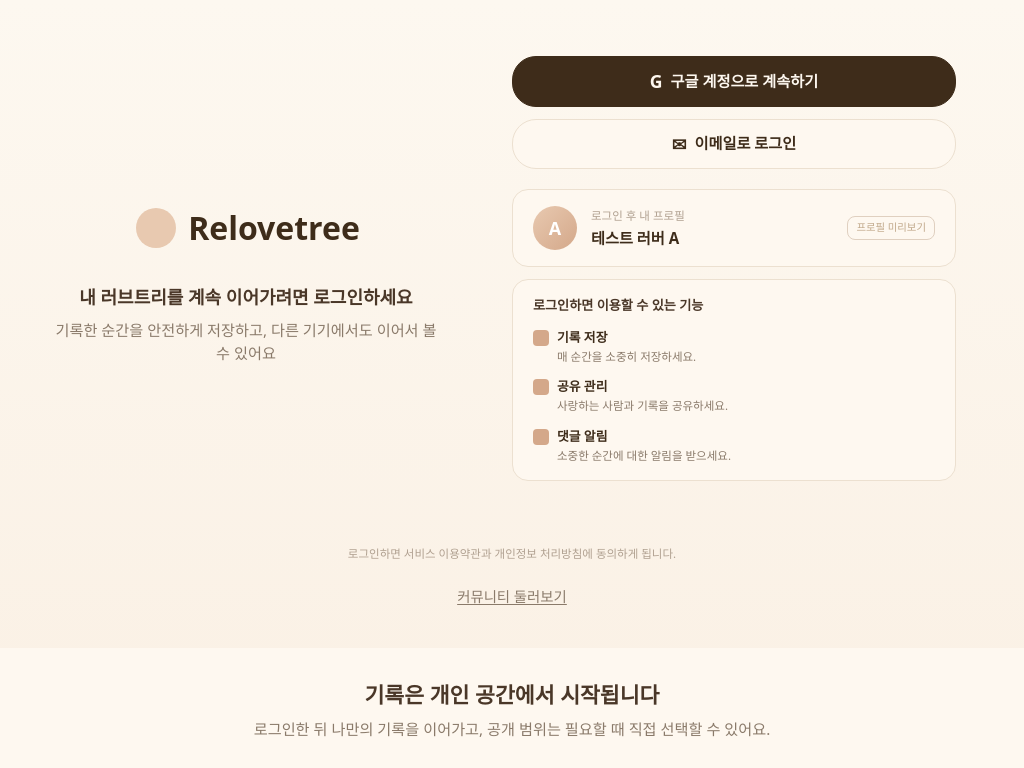
it: Auth login screen (LT3-AUTH-001) › maps email provider failure invalid-credential to one bounded status
Click the button "✉ 이메일로 로그인": x=734, y=144 [512,119,956,169]
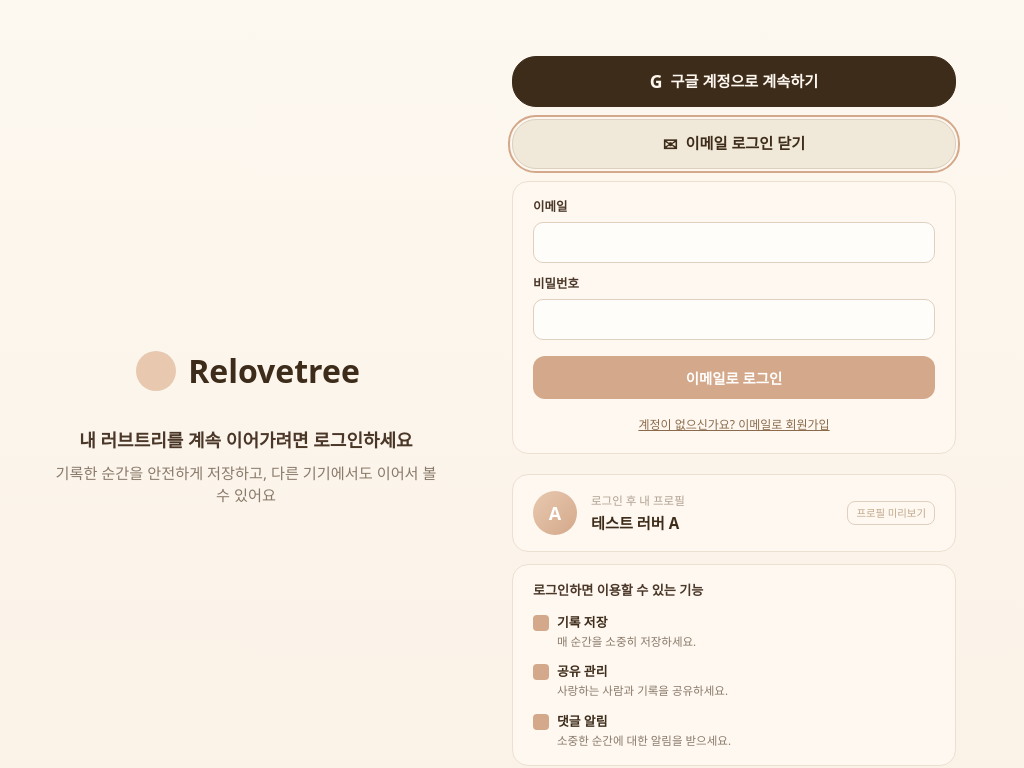
In the field labelled "이메일": x=734, y=242 [533,222,935,263], type "user@example.com"
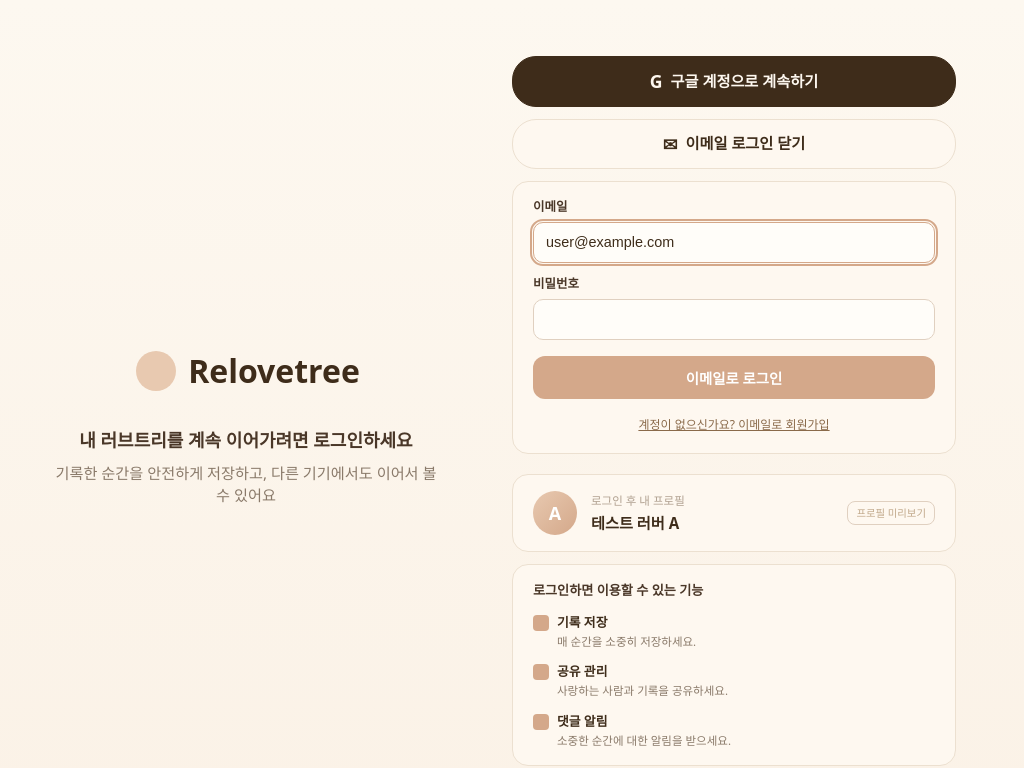
In the password field labelled "비밀번호": x=734, y=319 [533,299,935,340], type "secret-pw"
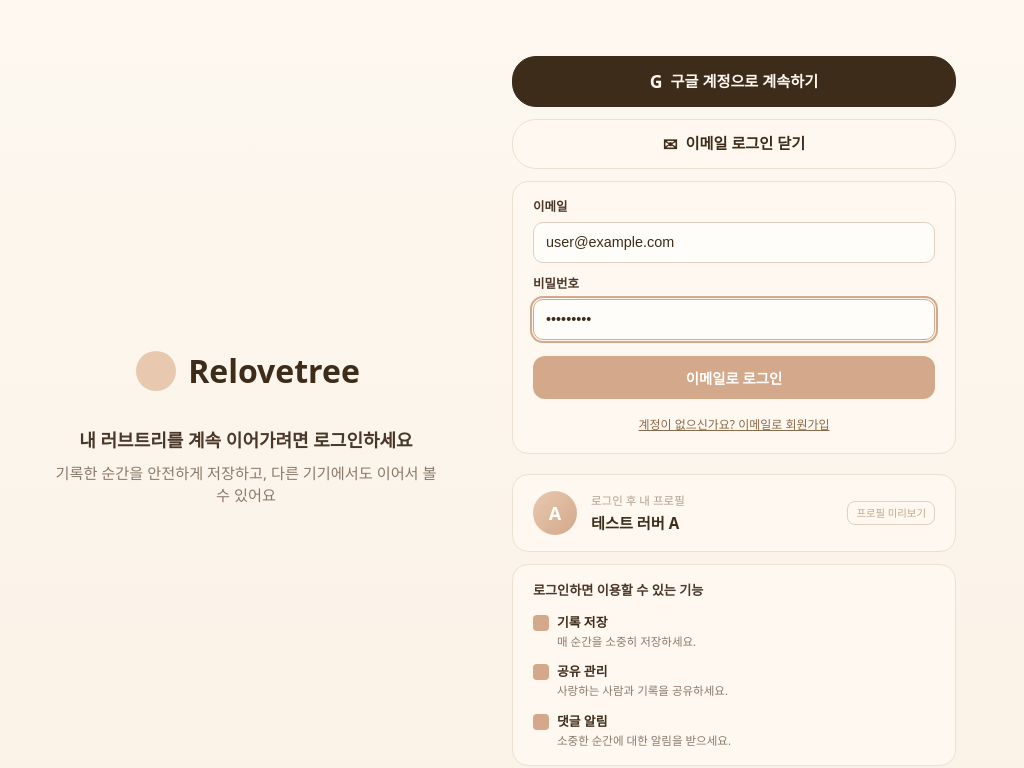
Click the button "이메일로 로그인": x=734, y=378 [533,356,935,399]
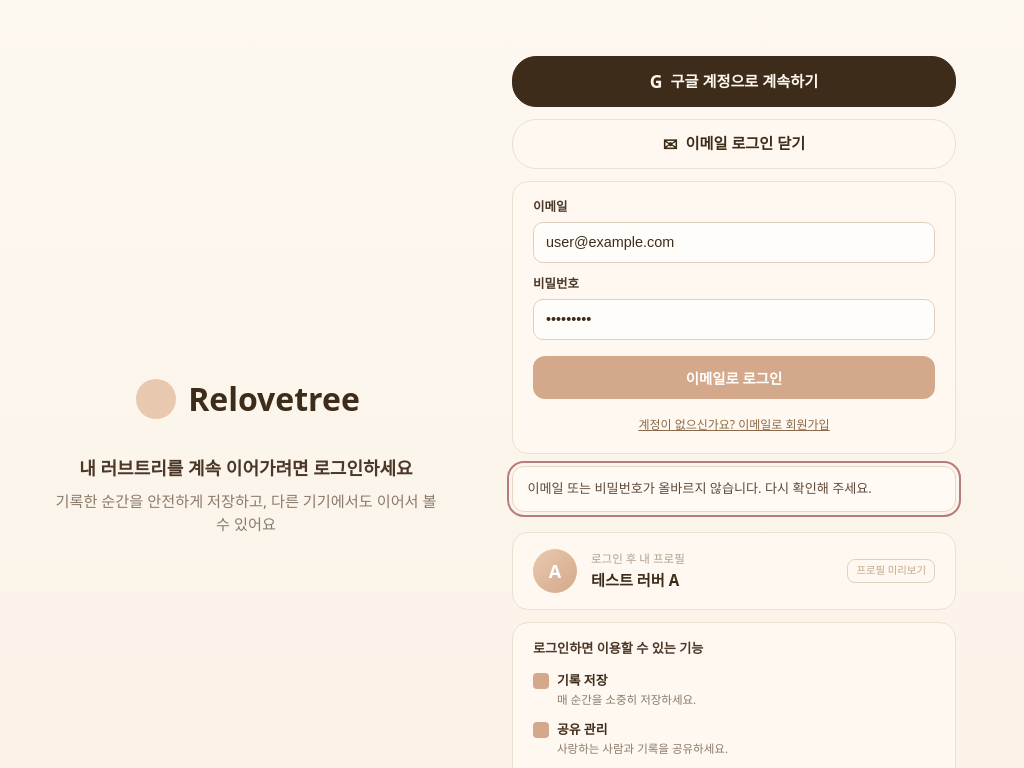
Expected: the message does not show "auth/raw-code", [512,466,956,512]
Result: the number of messages is 1 at [512,466,956,512]
Result: the message shows "이메일 또는 비밀번호가 올바르지 않습니다" at [527,479,872,497]
